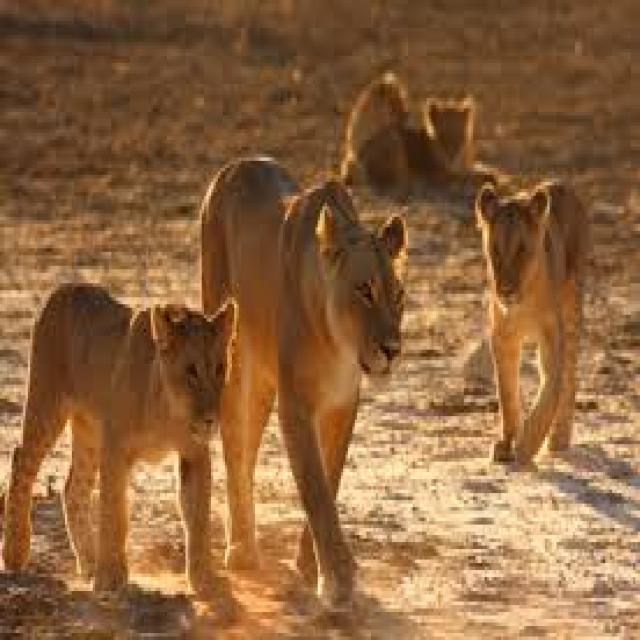Lion: (201, 156, 410, 614), (4, 281, 237, 587)
